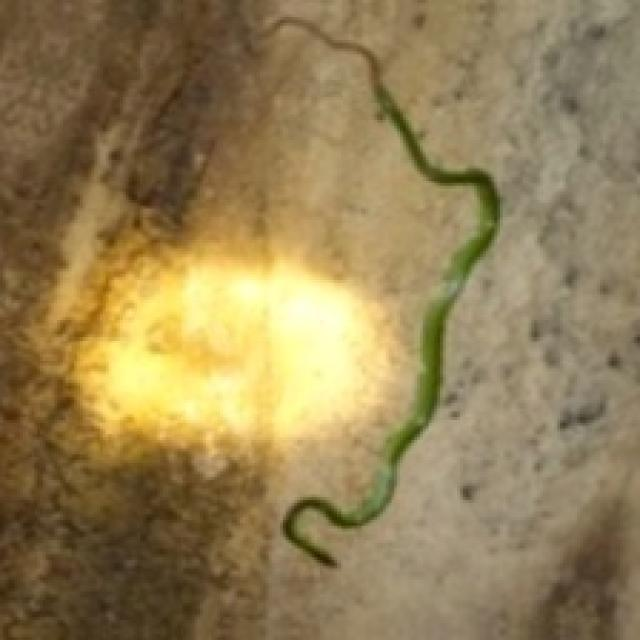red-tailed green ratsnake: (269, 17, 497, 566)
